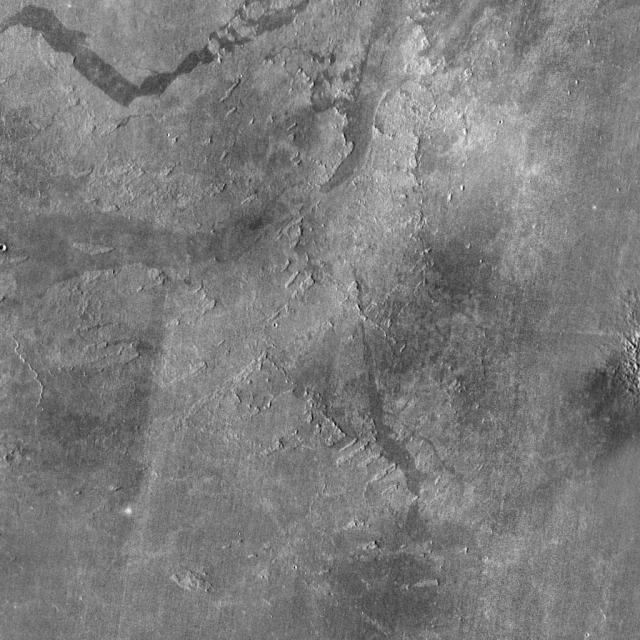crater: (10, 451, 24, 463)
